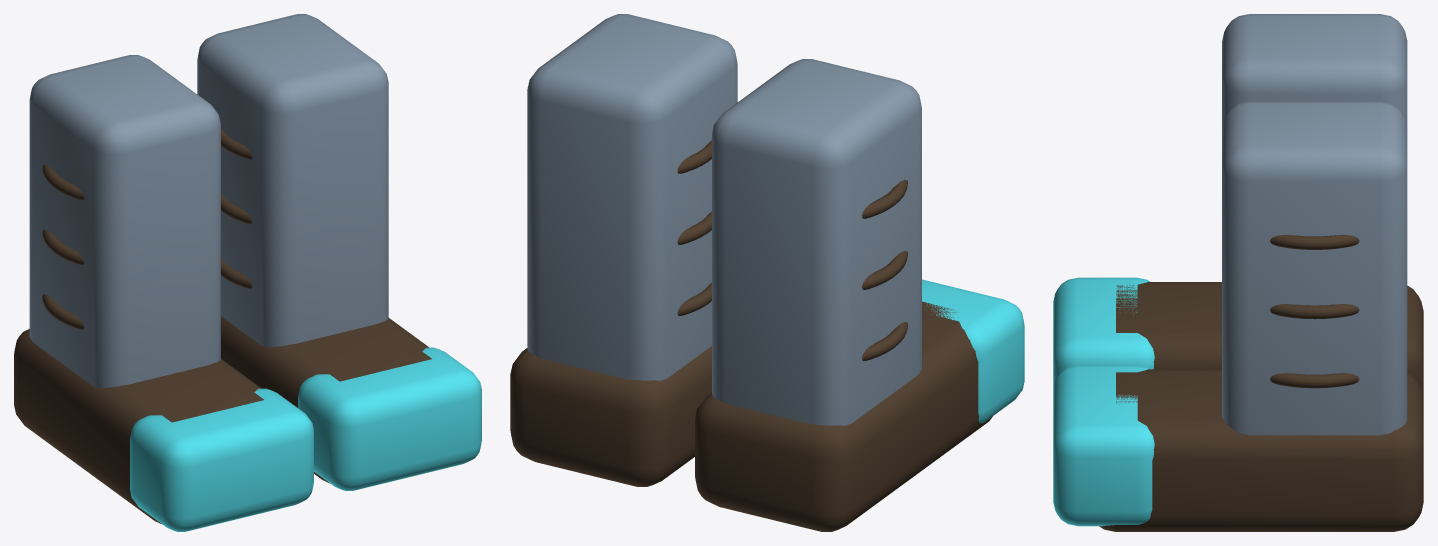
The model's file is boots.glb.
The picture shows the model from 3 angles, left to right: view 1: azimuth 30°, elevation 25°; view 2: azimuth 150°, elevation 25°; view 3: azimuth 270°, elevation 25°; orthographic projection. The views are drawn at different scales.
Parts seen in each view (by area): view 1: BOOT_ANKLE_PRIMARY, BOOT_ANKLE_PRIMARY.001, TOE_CAP_ACCENT, TOE_CAP_ACCENT.001, BOOT_FOOT_SECONDARY, BOOT_FOOT_SECONDARY.001, BOOT_STRAP_SECONDARY.002, BOOT_STRAP_SECONDARY, BOOT_STRAP_SECONDARY.001; view 2: BOOT_ANKLE_PRIMARY, BOOT_ANKLE_PRIMARY.001, BOOT_FOOT_SECONDARY, BOOT_FOOT_SECONDARY.001, TOE_CAP_ACCENT, BOOT_STRAP_SECONDARY.001, BOOT_STRAP_SECONDARY.002, BOOT_STRAP_SECONDARY; view 3: BOOT_ANKLE_PRIMARY.001, BOOT_FOOT_SECONDARY.001, BOOT_ANKLE_PRIMARY, TOE_CAP_ACCENT.001, BOOT_FOOT_SECONDARY, TOE_CAP_ACCENT, BOOT_STRAP_SECONDARY.003, BOOT_STRAP_SECONDARY.004, BOOT_STRAP_SECONDARY.005.
Boxes of the visible parts, x1,y1,x2,y2 form: BOOT_ANKLE_PRIMARY: (29,55,220,388); BOOT_ANKLE_PRIMARY.001: (197,14,388,347); TOE_CAP_ACCENT: (130,388,313,531); TOE_CAP_ACCENT.001: (298,347,481,490); BOOT_FOOT_SECONDARY: (14,329,263,523); BOOT_FOOT_SECONDARY.001: (221,316,431,483); BOOT_STRAP_SECONDARY.002: (42,164,84,200); BOOT_STRAP_SECONDARY: (42,294,84,329); BOOT_STRAP_SECONDARY.001: (42,229,84,264); BOOT_ANKLE_PRIMARY: (712,59,921,425); BOOT_ANKLE_PRIMARY.001: (527,14,737,380); BOOT_FOOT_SECONDARY: (695,301,992,531); BOOT_FOOT_SECONDARY.001: (510,346,711,486); TOE_CAP_ACCENT: (922,279,1024,423); BOOT_STRAP_SECONDARY.001: (862,251,907,289); BOOT_STRAP_SECONDARY.002: (862,179,907,218); BOOT_STRAP_SECONDARY: (862,322,907,360); BOOT_ANKLE_PRIMARY.001: (1222,101,1407,435); BOOT_FOOT_SECONDARY.001: (1099,369,1423,531); BOOT_ANKLE_PRIMARY: (1222,14,1407,128); TOE_CAP_ACCENT.001: (1053,365,1154,526); BOOT_FOOT_SECONDARY: (1116,282,1423,397); TOE_CAP_ACCENT: (1053,277,1154,388); BOOT_STRAP_SECONDARY.003: (1270,373,1359,388); BOOT_STRAP_SECONDARY.004: (1270,304,1359,319); BOOT_STRAP_SECONDARY.005: (1270,234,1359,249).
Size of the model in its own units: 1.44 by 1.54 by 1.36.
